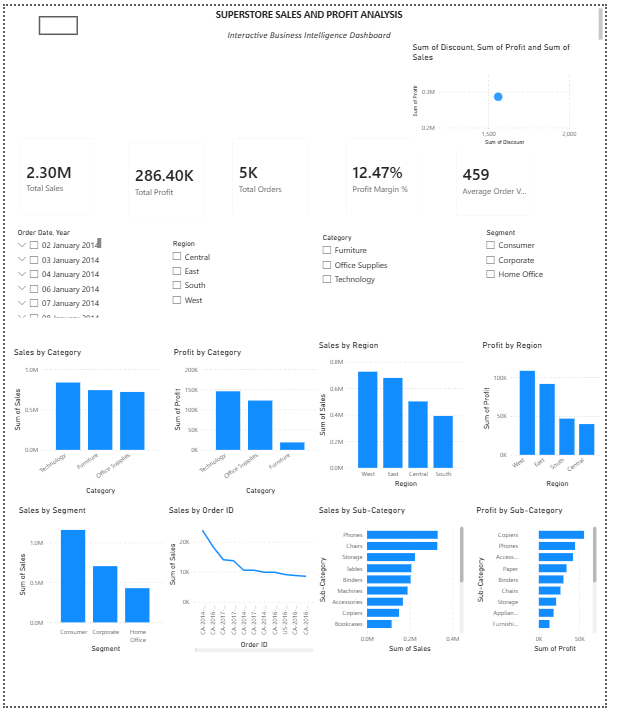

Layout of this report page (visuals, bound fields, positions):
{"tool":"powerbi","page":{"name":"Executive Overview","canvas":[1200,1400],"ordinal":0},"visuals":[{"type":"clusteredColumnChart","title":"Sales by Category","fields":{"Y":["Sum(Sample - Superstore.Sales)"],"Category":["Sample - Superstore.Category"]},"box":[11.2,682.5,300,300],"z":0},{"type":"clusteredColumnChart","title":" Profit by Category","fields":{"Y":["Sum(Sample - Superstore.Profit)"],"Category":["Sample - Superstore.Category"]},"box":[332.5,682.5,300,300],"z":1000},{"type":"clusteredColumnChart","title":" Sales by Region","fields":{"Category":["Sample - Superstore.Region"],"Y":["Sum(Sample - Superstore.Sales)"]},"box":[622.5,666.2,300,300],"z":2000},{"type":"clusteredColumnChart","title":" Profit by Region","fields":{"Category":["Sample - Superstore.Region"],"Y":["Sum(Sample - Superstore.Profit)"]},"box":[948.8,666.2,251,300],"z":3000},{"type":"clusteredColumnChart","title":" Sales by Segment","fields":{"Category":["Sample - Superstore.Segment"],"Y":["Sum(Sample - Superstore.Sales)"]},"box":[22.5,996.2,300,300],"z":4000},{"type":"lineChart","title":"Sales by Order ID","fields":{"Category":["Sample - Superstore.Order ID"],"Y":["Sum(Sample - Superstore.Sales)"]},"box":[322.5,996.2,300,300],"z":5000},{"type":"clusteredBarChart","title":"Sales by Sub-Category","fields":{"Category":["Sample - Superstore.Sub-Category"],"Y":["Sum(Sample - Superstore.Sales)"]},"box":[622.5,996.2,300,300],"z":6000},{"type":"clusteredBarChart","title":" Profit by Sub-Category","fields":{"Category":["Sample - Superstore.Sub-Category"],"Y":["Sum(Sample - Superstore.Profit)"]},"box":[936.2,996.2,251,300],"z":7000},{"type":"cardVisual","fields":{"Data":["Sample - Superstore.Total Sales"]},"box":[12,248,185.5,187.8],"z":8000},{"type":"cardVisual","fields":{"Data":["Sample - Superstore.Total Profit"]},"box":[230,254,185.5,185.5],"z":9000},{"type":"cardVisual","fields":{"Data":["Sample - Superstore.Total Orders"]},"box":[438,248,185,188],"z":10000},{"type":"cardVisual","fields":{"Data":["Sample - Superstore.Profit Margin %"]},"box":[664,248,185,188],"z":11000},{"type":"slicer","fields":{"Values":["Sample - Superstore.Order Date","Sample - Superstore.Order Date.Variation.Date Hierarchy.Year"]},"box":[11.2,440,185,188],"z":12000},{"type":"slicer","fields":{"Values":["Sample - Superstore.Region"]},"box":[321.2,461.2,185,188],"z":13000},{"type":"slicer","fields":{"Values":["Sample - Superstore.Category"]},"box":[622.5,448.8,185,188],"z":14000},{"type":"slicer","fields":{"Values":["Sample - Superstore.Segment"]},"box":[948.8,440,185,188],"z":15000},{"type":"textbox","box":[22,0,1178,74],"z":16000},{"type":"cardVisual","fields":{"Data":["Sample - Superstore.Average Order Value"]},"box":[886,254,187.5,182.5],"z":17000},{"type":"scatterChart","fields":{"X":["Sum(Sample - Superstore.Discount)"],"Y":["Sum(Sample - Superstore.Profit)"],"Size":["Sum(Sample - Superstore.Sales)"]},"box":[810.8,73.7,338.5,210.8],"z":18000},{"type":"actionButton","box":[66.6,19,78.5,38],"z":19000}]}

Visuals, with their boxes in screenshot pixels (x1, y1, x2, y2), scaled from the page's 1200x1400 canvas onto the 619x709 screenshot:
"Sales by Category" clusteredColumnChart: box(6, 346, 161, 498)
" Profit by Category" clusteredColumnChart: box(172, 346, 326, 498)
" Sales by Region" clusteredColumnChart: box(321, 337, 476, 489)
" Profit by Region" clusteredColumnChart: box(489, 337, 618, 489)
" Sales by Segment" clusteredColumnChart: box(12, 505, 166, 656)
"Sales by Order ID" lineChart: box(166, 505, 321, 656)
"Sales by Sub-Category" clusteredBarChart: box(321, 505, 476, 656)
" Profit by Sub-Category" clusteredBarChart: box(483, 505, 612, 656)
cardVisual - Sample - Superstore.Total Sales: box(6, 126, 102, 221)
cardVisual - Sample - Superstore.Total Profit: box(119, 129, 214, 223)
cardVisual - Sample - Superstore.Total Orders: box(226, 126, 321, 221)
cardVisual - Sample - Superstore.Profit Margin %: box(343, 126, 438, 221)
slicer - Sample - Superstore.Order Date x Sample - Superstore.Order Date.Variation.Date Hierarchy.Year: box(6, 223, 101, 318)
slicer - Sample - Superstore.Region: box(166, 234, 261, 329)
slicer - Sample - Superstore.Category: box(321, 227, 417, 322)
slicer - Sample - Superstore.Segment: box(489, 223, 585, 318)
textbox: box(11, 0, 618, 37)
cardVisual - Sample - Superstore.Average Order Value: box(457, 129, 554, 221)
scatterChart - Sum(Sample - Superstore.Discount) x Sum(Sample - Superstore.Profit): box(418, 37, 593, 144)
actionButton: box(34, 10, 75, 29)
